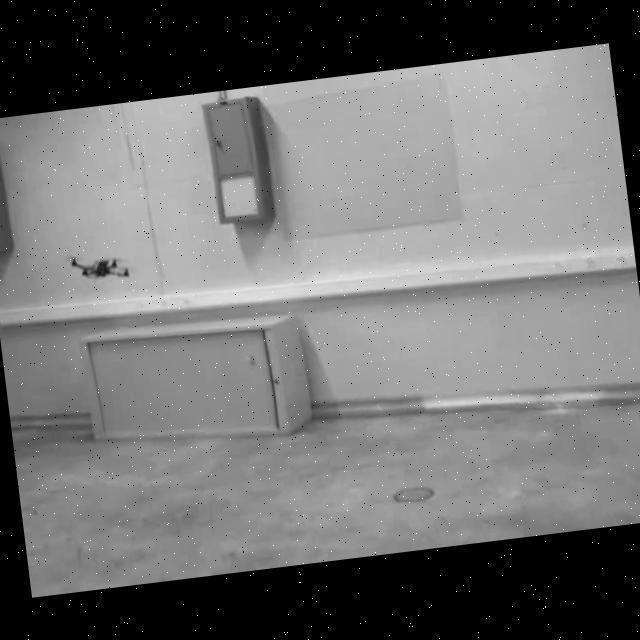Drons: (59, 242, 137, 296)
